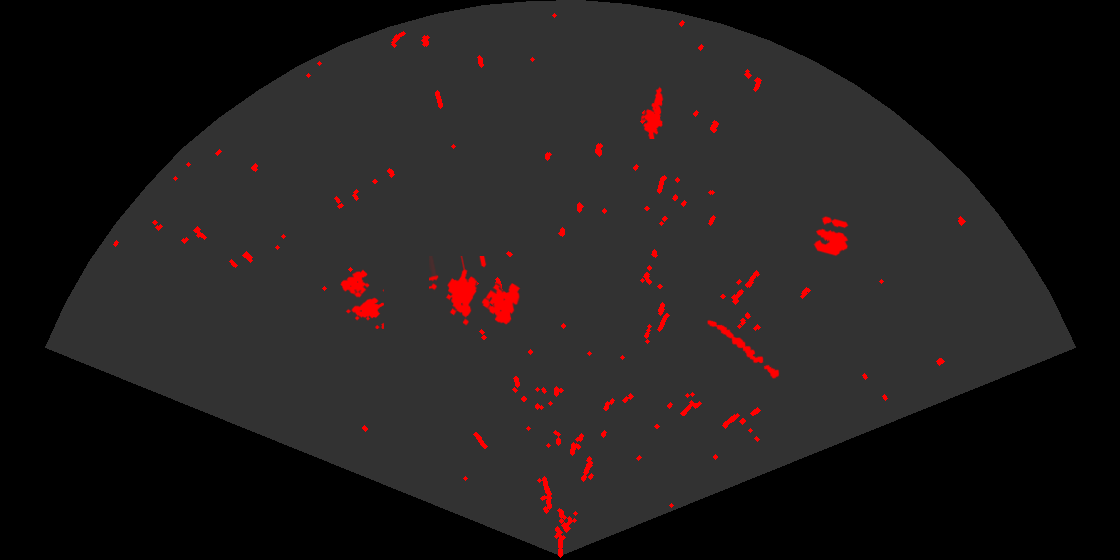ball: (812, 215, 850, 258)
cage: (429, 256, 522, 327), (339, 268, 384, 329)
chain: (706, 318, 781, 380)
frogman: (640, 86, 665, 139)
